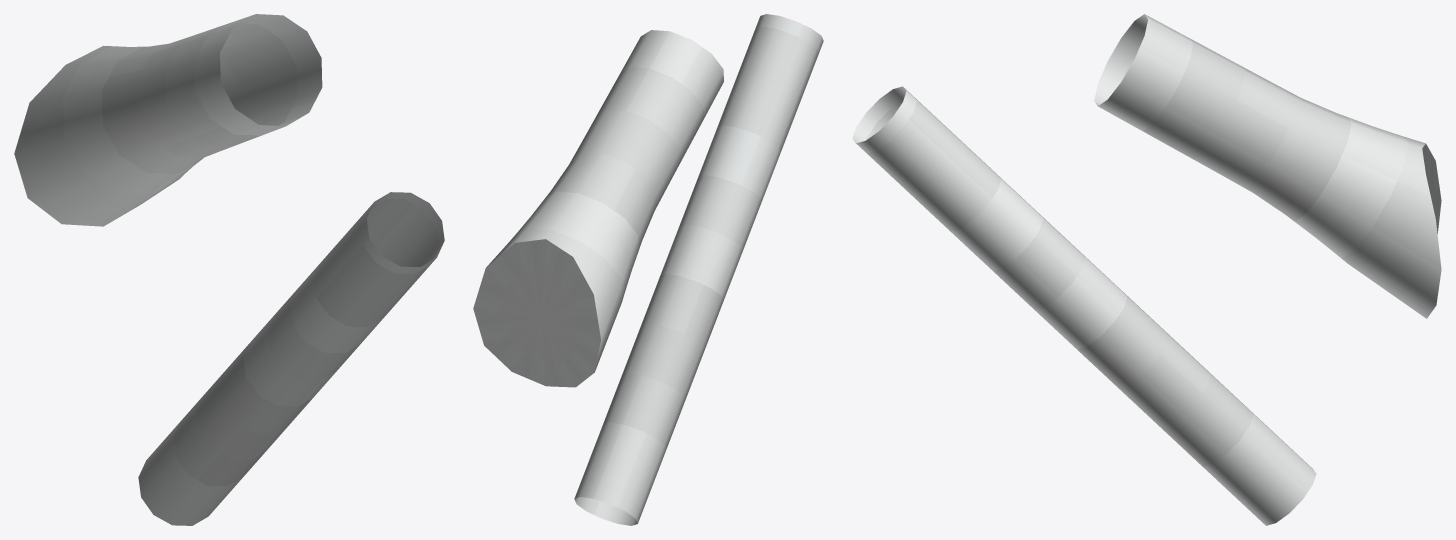
The model's file is luminairearm_truss8ftstraightdouble_c7.obj.
3 renders of one model, left to right at view 1: azimuth 30°, elevation 25°; view 2: azimuth 150°, elevation 25°; view 3: azimuth 270°, elevation 25°, orthographic. The views are drawn at different scales.
Parts seen in each view (by area): view 1: luminairearm_truss8ftstraightdouble_c7; view 2: luminairearm_truss8ftstraightdouble_c7; view 3: luminairearm_truss8ftstraightdouble_c7.
Boxes of the visible parts, x1,y1,x2,y2 form: luminairearm_truss8ftstraightdouble_c7: [14, 14, 444, 525]; luminairearm_truss8ftstraightdouble_c7: [473, 14, 823, 525]; luminairearm_truss8ftstraightdouble_c7: [852, 14, 1441, 525].
Size of the model in its own units: 0.3375 by 1.15 by 1.22.
